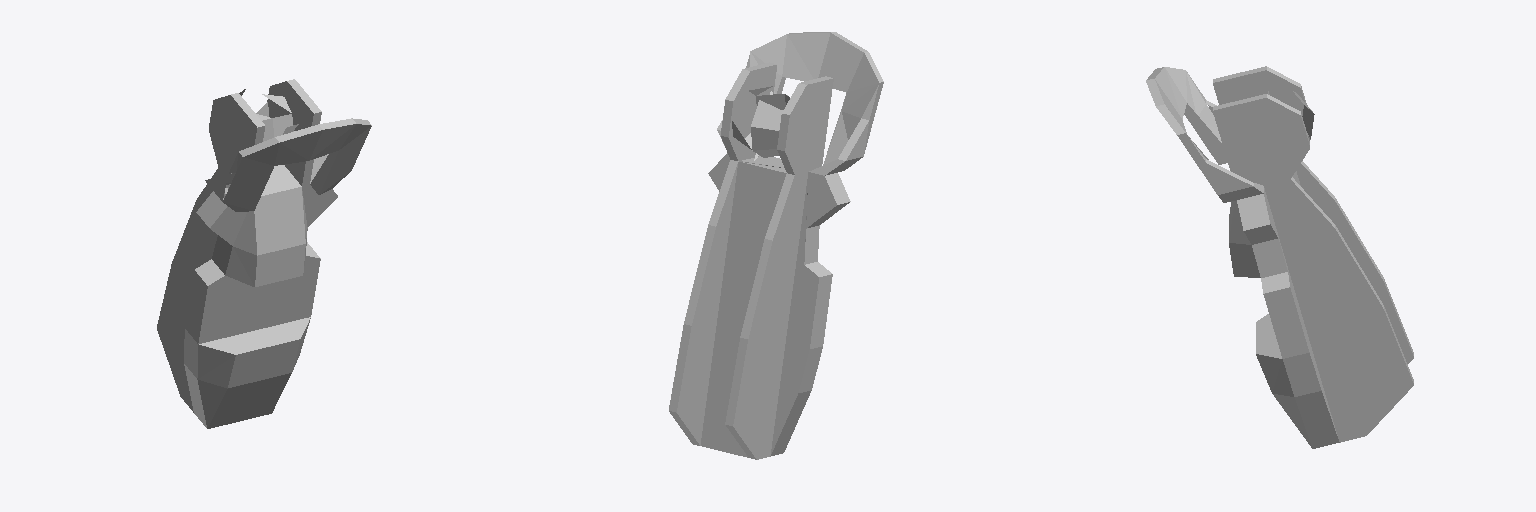
The model's file is jaller_lleg.obj.
3 views of the same model, side by side, from view 1: azimuth 30°, elevation 25°; view 2: azimuth 150°, elevation 25°; view 3: azimuth 270°, elevation 25° (orthographic).
Visible parts, largest first — view 1: jaller.bh_jaller_reference.smd.mesh_0.006_jaller.bh_jaller_refer; view 2: jaller.bh_jaller_reference.smd.mesh_0.006_jaller.bh_jaller_refer; view 3: jaller.bh_jaller_reference.smd.mesh_0.006_jaller.bh_jaller_refer.
Part boxes in pixels (bbox=[...]): jaller.bh_jaller_reference.smd.mesh_0.006_jaller.bh_jaller_refer: bbox=[157, 79, 371, 428]; jaller.bh_jaller_reference.smd.mesh_0.006_jaller.bh_jaller_refer: bbox=[669, 32, 883, 459]; jaller.bh_jaller_reference.smd.mesh_0.006_jaller.bh_jaller_refer: bbox=[1146, 66, 1413, 448].
Size of the model in its own units: 8.1 by 21.28 by 14.6.